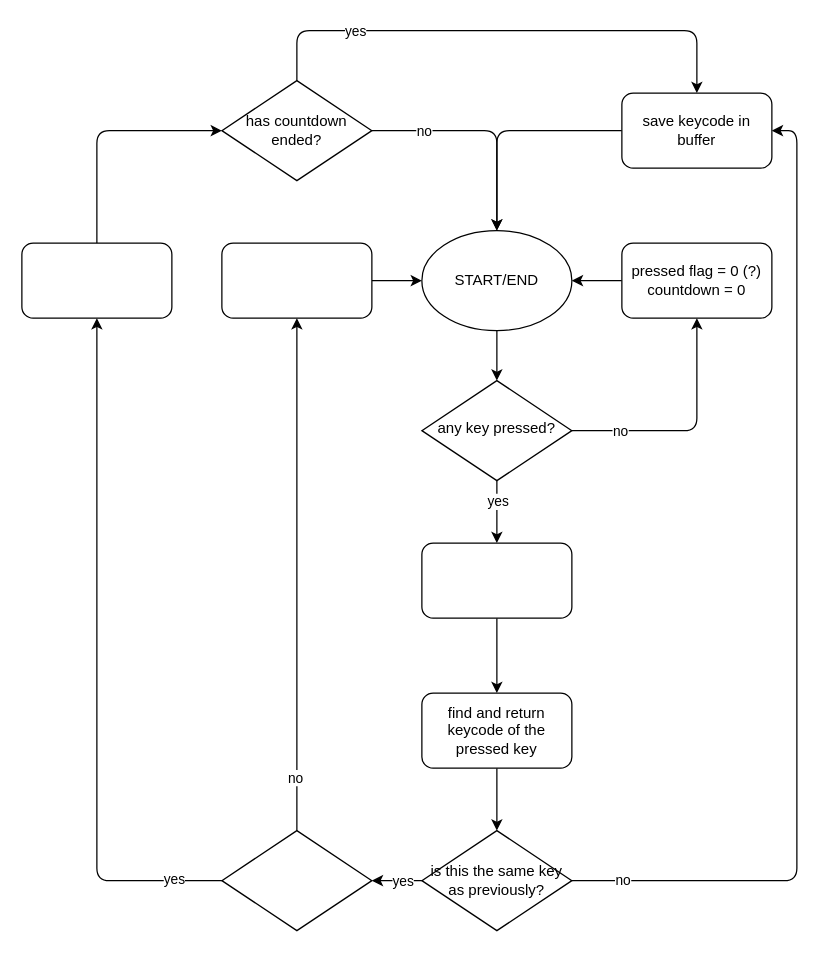
Some shapes in this 829 by 953 pixel diagram are drawn without their labels. The shapes that lost their labels are listed below. From the top down, each one's box as (x1, y1, x2, y2) in pixels, then its label:
(21, 242, 172, 318): countdown -= 1
(221, 242, 372, 318): countdown = $FF
(421, 542, 572, 618): pressed flag = 1 (?)
(221, 829, 372, 931): is countdown started?
